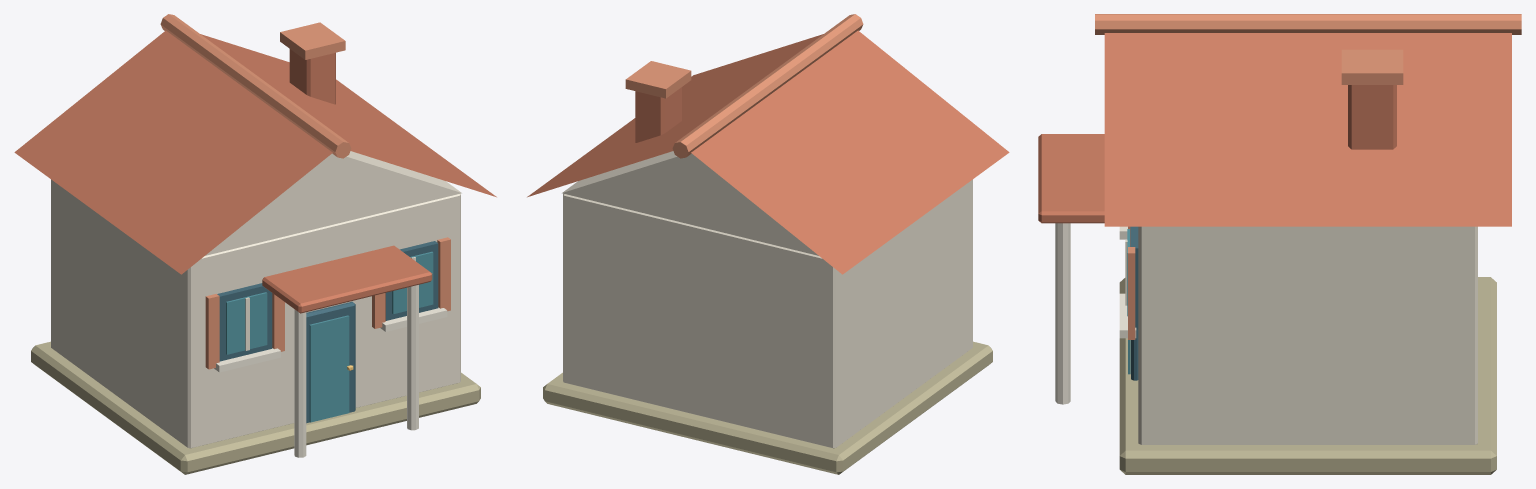
Rendered from coastal_house_a.glb.
3 views of the same model, side by side, from view 1: azimuth 30°, elevation 25°; view 2: azimuth 150°, elevation 25°; view 3: azimuth 270°, elevation 25° (orthographic). The views are drawn at different scales.
Visible parts, largest first — view 1: coastal_house_a; view 2: coastal_house_a; view 3: coastal_house_a.
Part boxes in pixels (x1,y1,x2,y2): coastal_house_a: (14, 14, 496, 474); coastal_house_a: (527, 14, 1009, 474); coastal_house_a: (1038, 14, 1521, 474).
Bounding box in the file's own units: 5.9 × 5.5 × 6.4.
